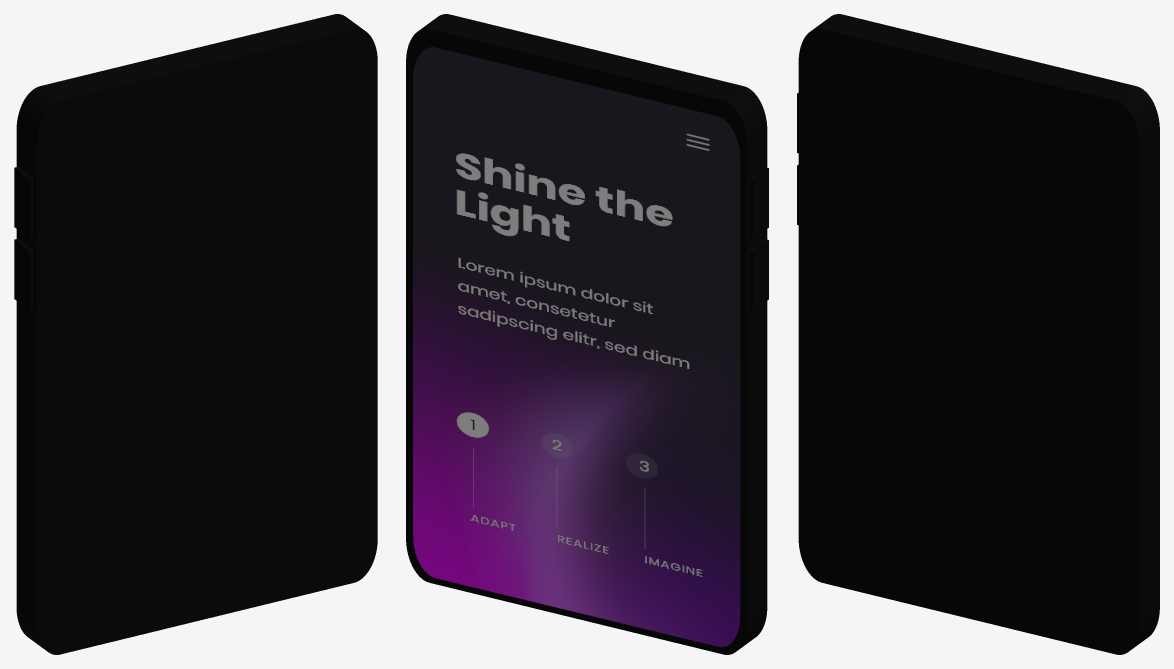
The model's file is phone.glb.
3 renders of one model, left to right at view 1: azimuth 30°, elevation 25°; view 2: azimuth 150°, elevation 25°; view 3: azimuth 330°, elevation 25°, orthographic.
Visible parts, largest first — view 1: phone; view 2: phone; view 3: phone.
Boxes of the visible parts, x1,y1,x2,y2 form: phone: (14, 14, 377, 654); phone: (406, 14, 768, 654); phone: (797, 14, 1159, 654).
Size of the model in its own units: 2.86 by 4.38 by 0.2881.
Materials: 3 (1 with a texture image).
